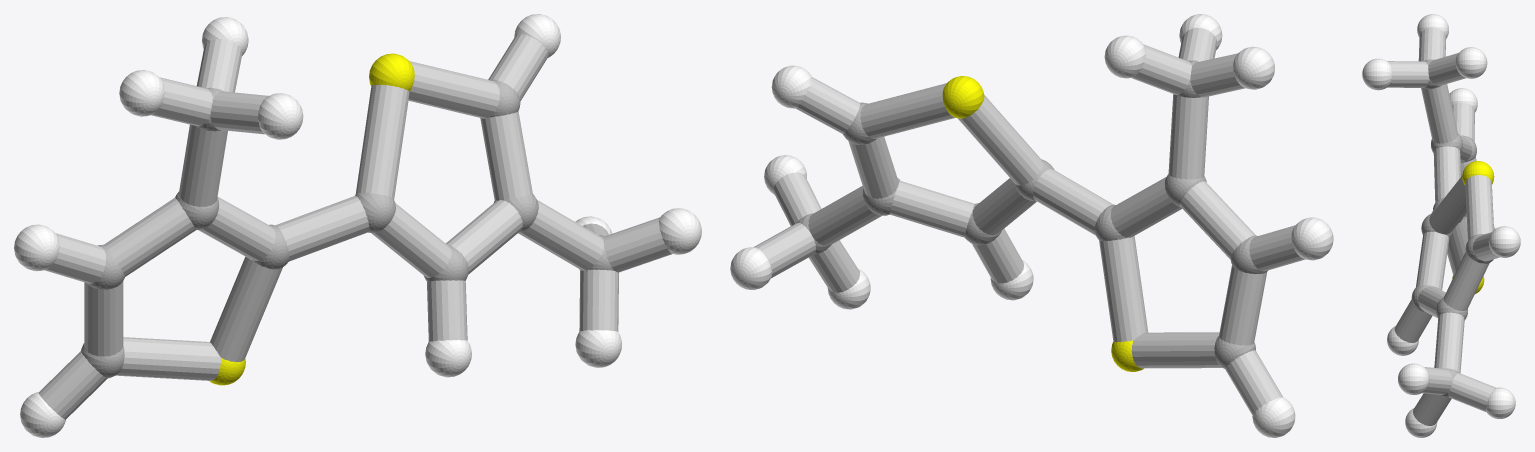
Rendered from Methylthiophene_Phi_25_Theta_330_Methylthiophene.glb.
3 views of the same model, side by side, from view 1: azimuth 30°, elevation 25°; view 2: azimuth 150°, elevation 25°; view 3: azimuth 270°, elevation 25° (orthographic). The views are drawn at different scales.
Visible parts, largest first — view 1: grp7965, grp3621, grp1, grp7241; view 2: grp7965, grp3621, grp1, grp7241; view 3: grp7965, grp3621, grp1, grp7241.
Boxes of the visible parts, x1=… form: grp7965: x1=38, y1=34, x2=672, y2=419; grp3621: x1=14, y1=14, x2=701, y2=437; grp1: x1=81, y1=79, x2=613, y2=378; grp7241: x1=209, y1=53, x2=414, y2=385; grp7965: x1=754, y1=27, x2=1305, y2=414; grp3621: x1=730, y1=14, x2=1333, y2=437; grp1: x1=796, y1=60, x2=1267, y2=368; grp7241: x1=942, y1=76, x2=1143, y2=371; grp7965: x1=1387, y1=27, x2=1499, y2=425; grp3621: x1=1362, y1=14, x2=1520, y2=437; grp1: x1=1411, y1=59, x2=1493, y2=397; grp7241: x1=1452, y1=161, x2=1494, y2=293.
Bounding box in the file's own units: 9.58 × 5.69 × 2.97.
